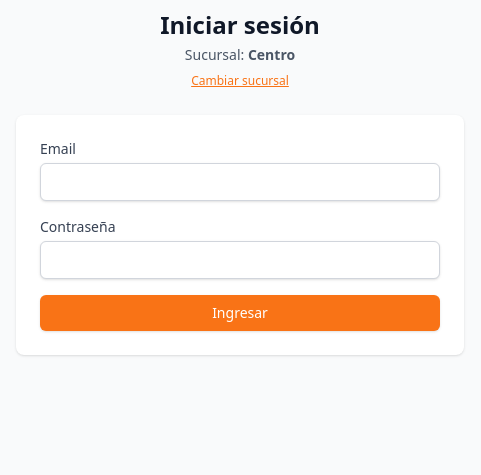
Test: LoginPage › requires_2fa response shows a Spanish notice
Type "waiter@demo.com" into the field labelled "Email" at (240, 182), box top-left (40, 163), bottom-right (440, 201)
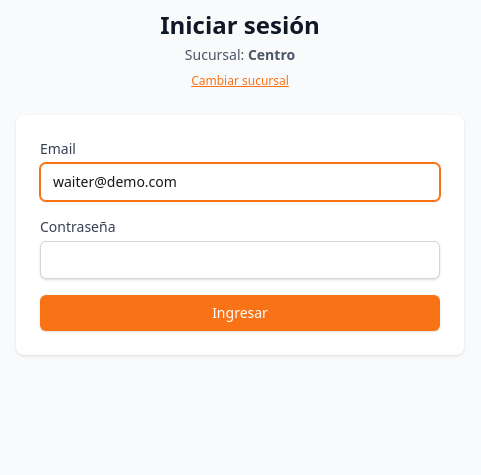
Type "waiter123" into the password field labelled "Contraseña" at (240, 260), box top-left (40, 241), bottom-right (440, 279)
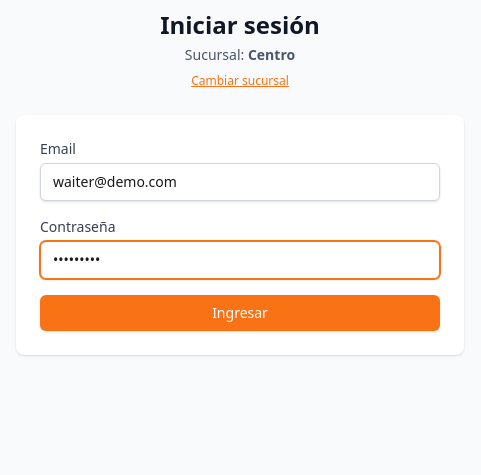
Click the button "Ingresar" at (240, 313), box top-left (40, 295), bottom-right (440, 331)
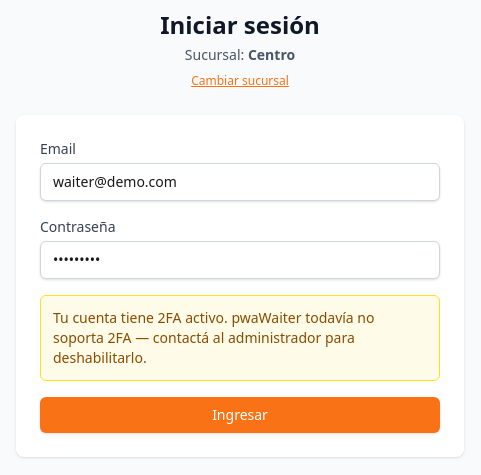
Expected: the text "2FA activo" is shown, top-left (53, 308), bottom-right (374, 367)
